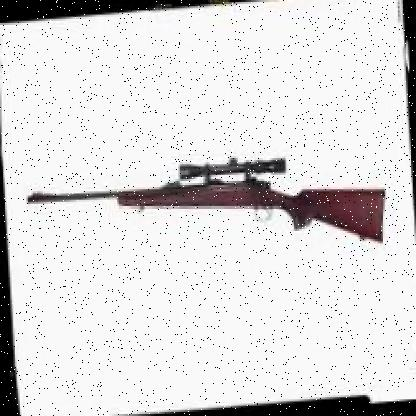rifle: (21, 137, 394, 283)
